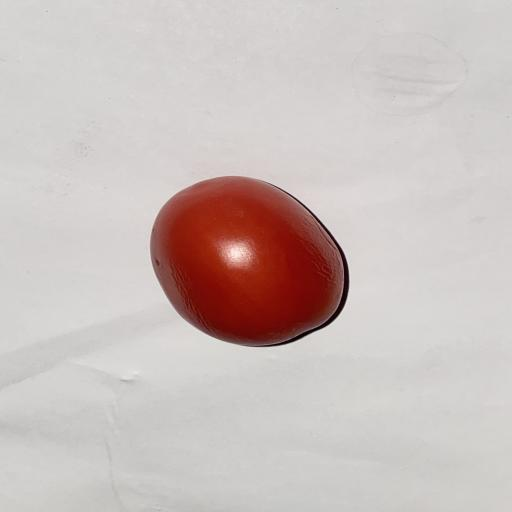overipe: (151, 177, 344, 346)
